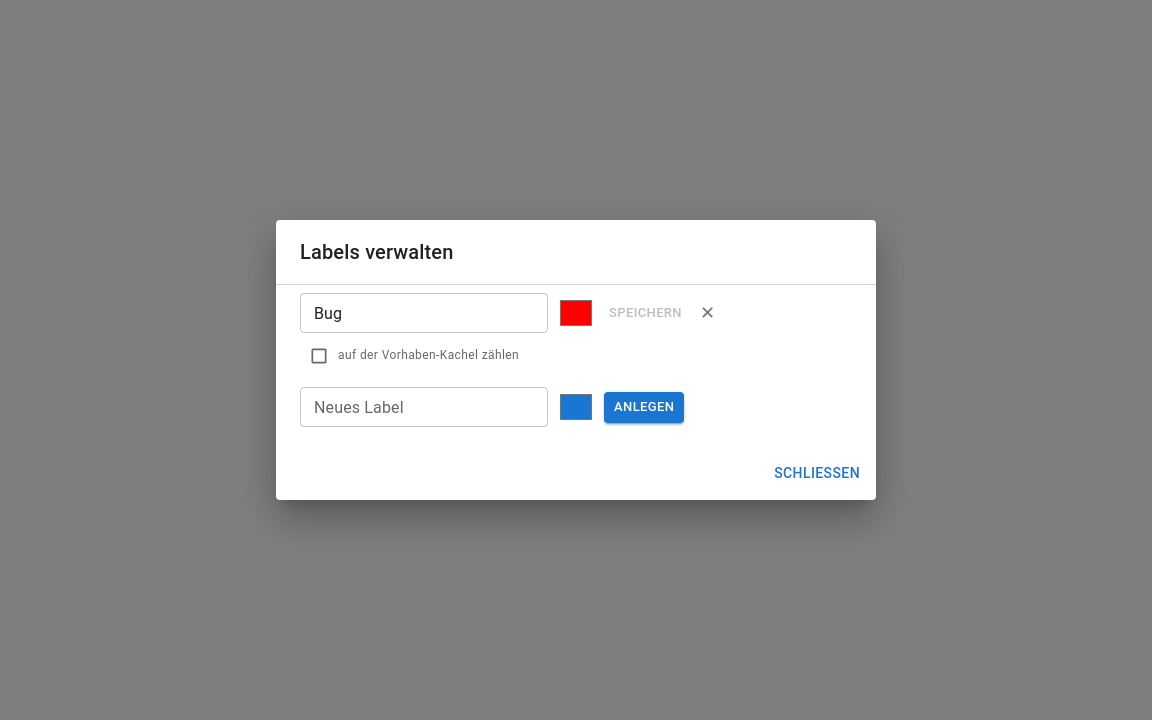
Test: LabelManagerDialog › remove: meldet den Serverfehler als Toast
Click the button named "Label Bug löschen" at (708, 313), box [695, 297, 720, 329]
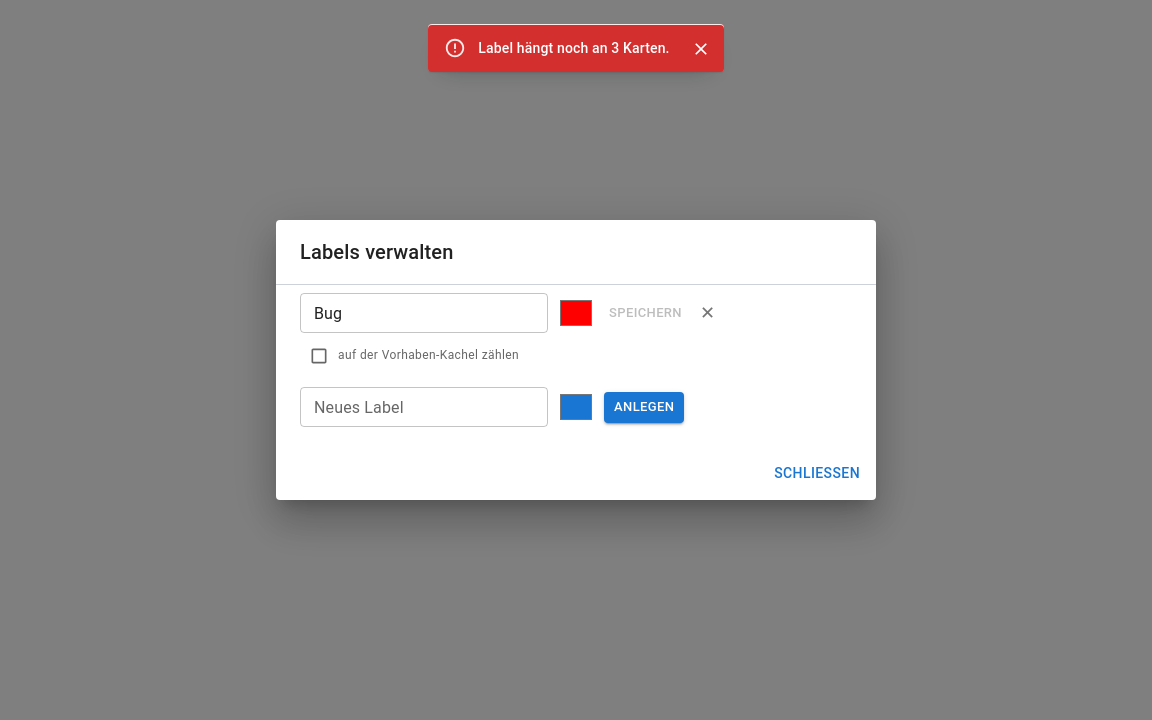
Expected: the message reads "Label hängt noch an 3 Karten.", [478, 40, 670, 56]
